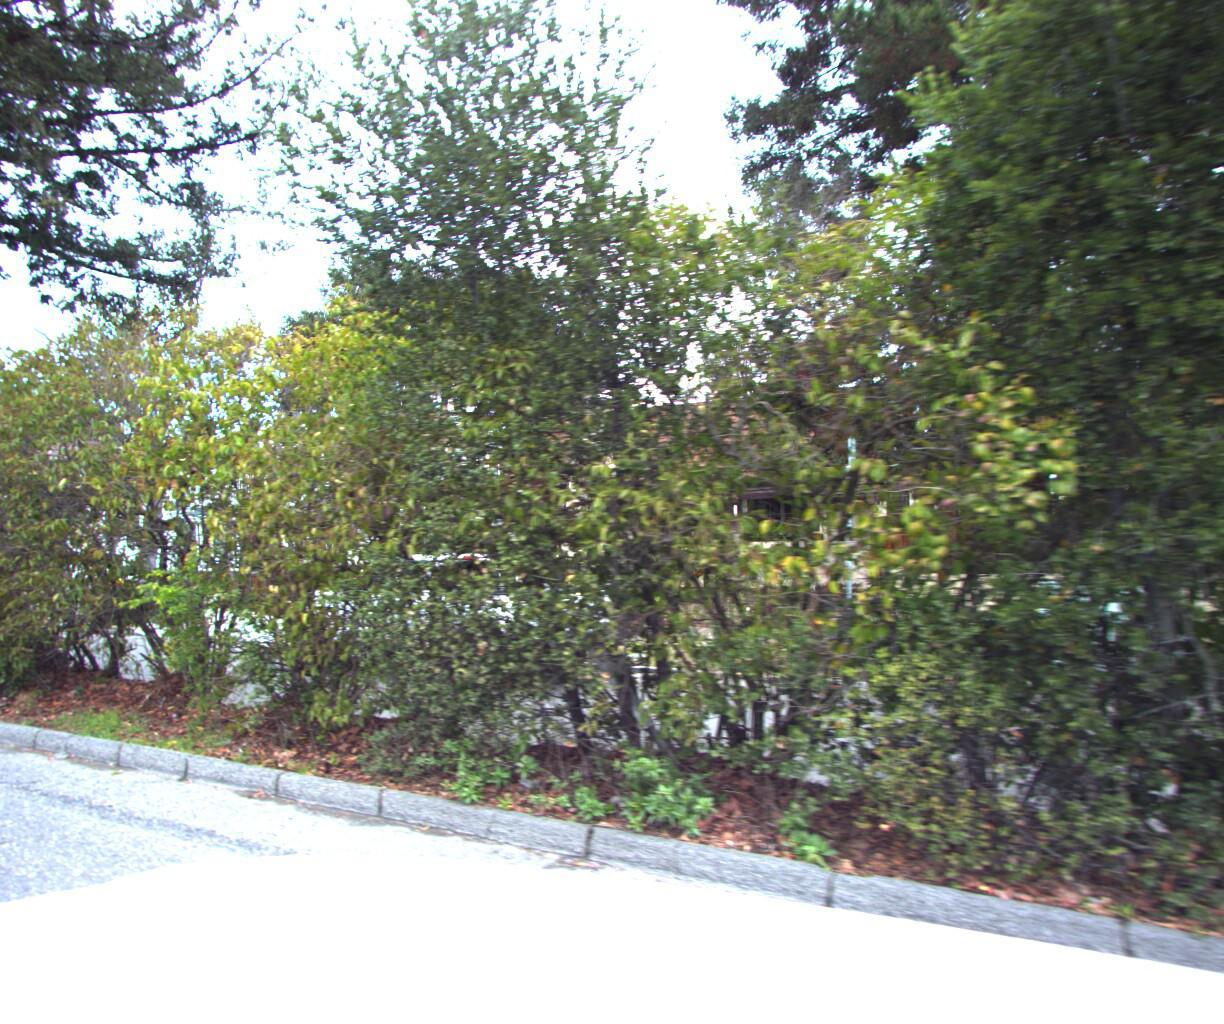car: (272, 537, 633, 692)
